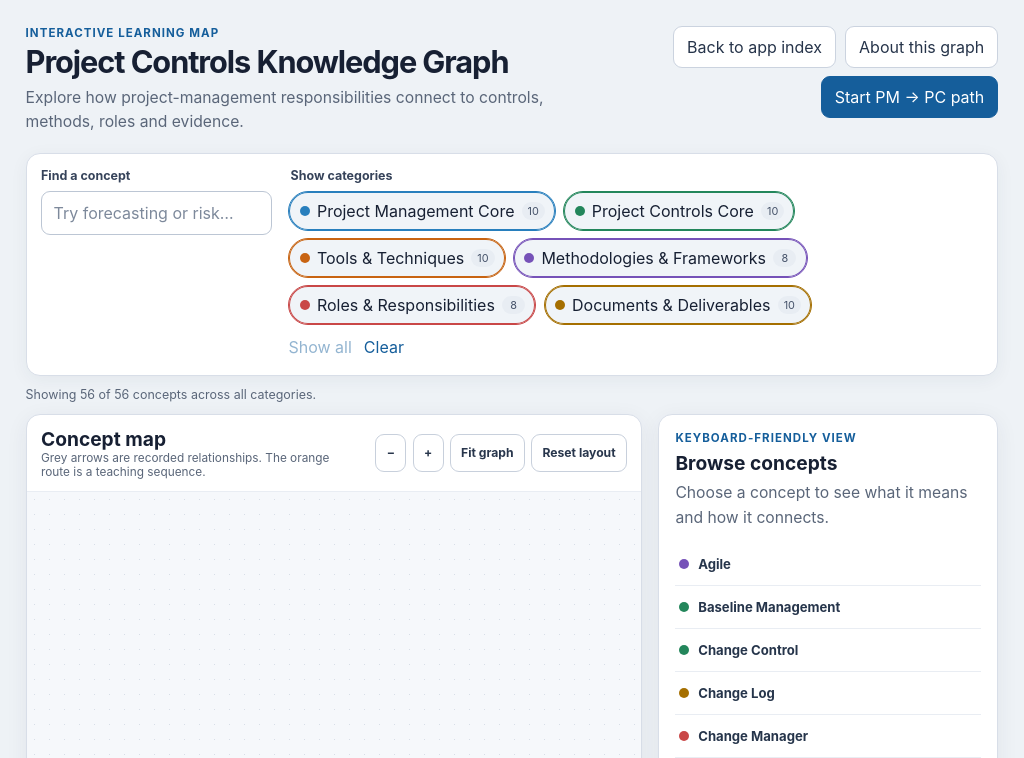
Project Controls Knowledge Graph › search composes with category filters and Clear exposes an empty state
Type "forecasting" into the search field labelled "Find a concept" at [157, 213], box [41,191,272,235]
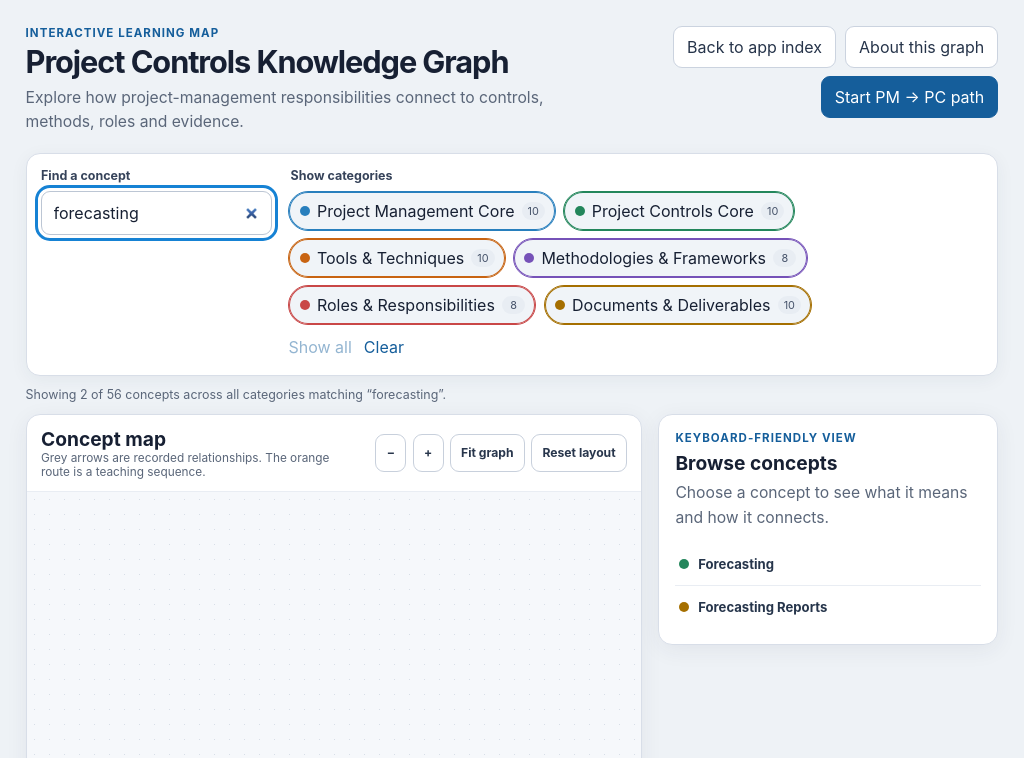
Check: the text "Showing 2 of 56 concepts" is shown, box [26,387,446,402]
Click the button "Documents & Deliverables 10" at [678, 305], box [544,285,812,325]
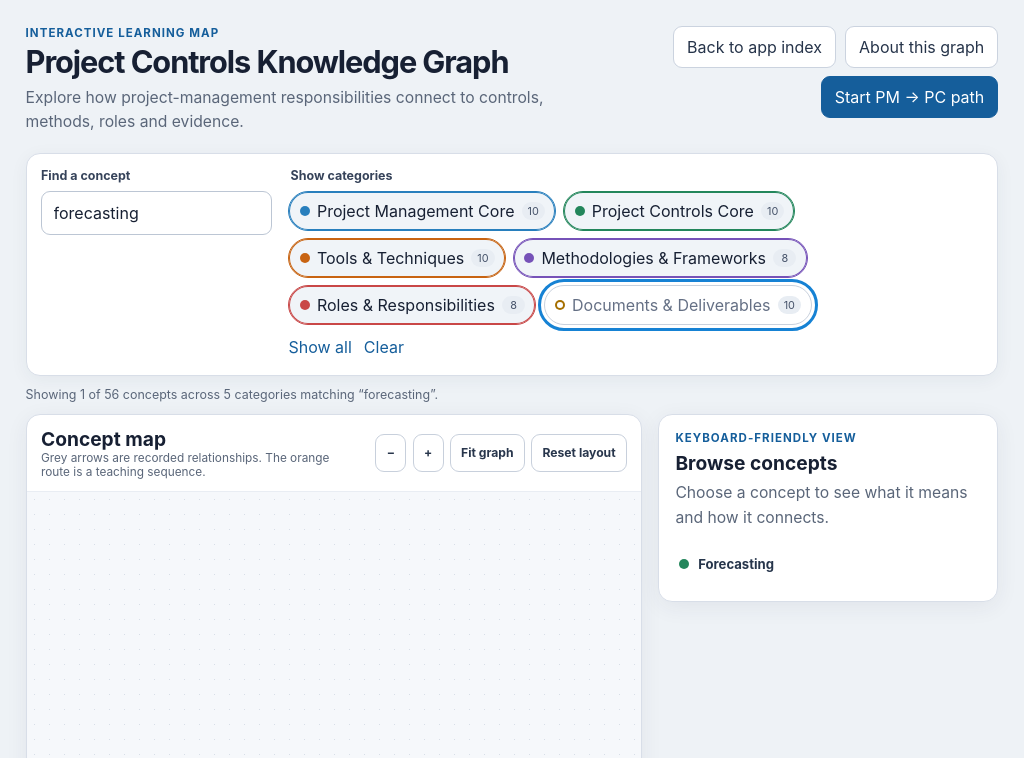
Check: the text "Showing 1 of 56 concepts" is shown, box [26,387,438,402]
Click the button "Clear" at [384, 347], box [364,334,404,361]
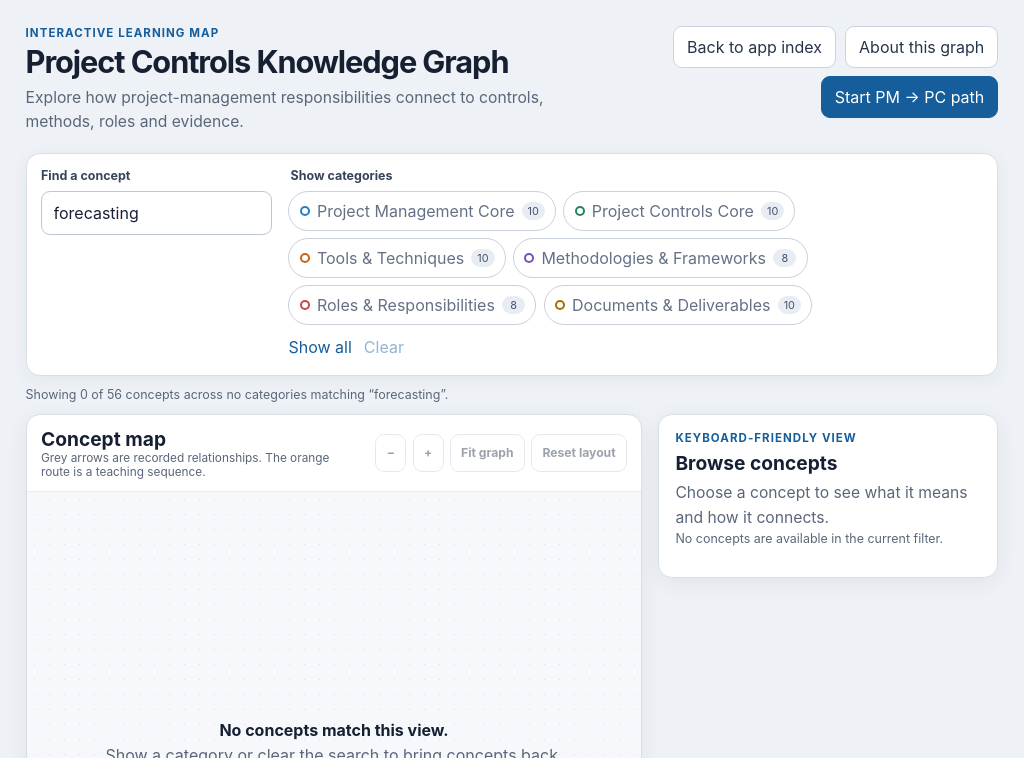
Check: the text "Showing 0 of 56 concepts across no categories" is shown, box [26,387,448,402]
Check: the text "No concepts match this view." is shown, box [219,720,449,740]
